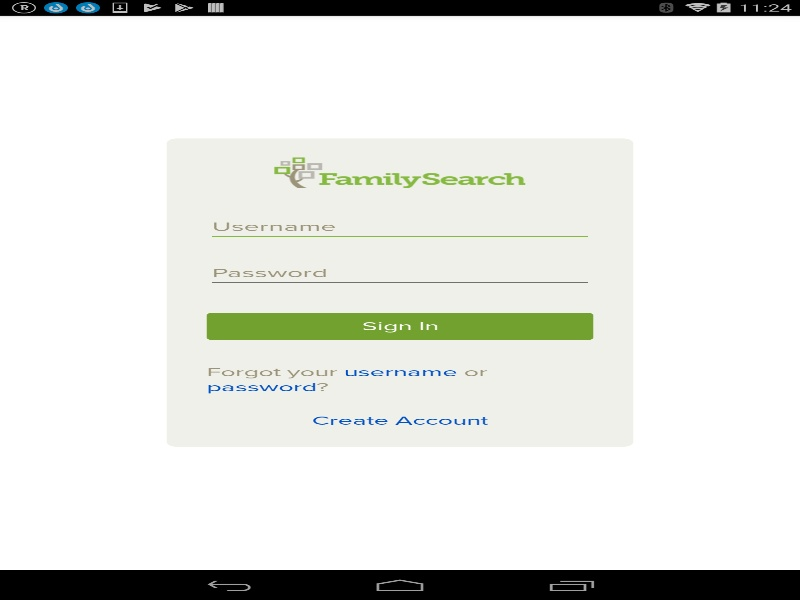Button: (206, 157, 593, 187)
Input: (206, 212, 593, 241), (206, 259, 593, 287)
